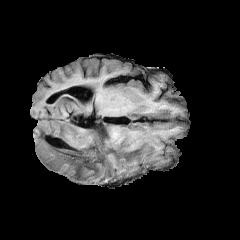glioma: (35, 120, 147, 181)
